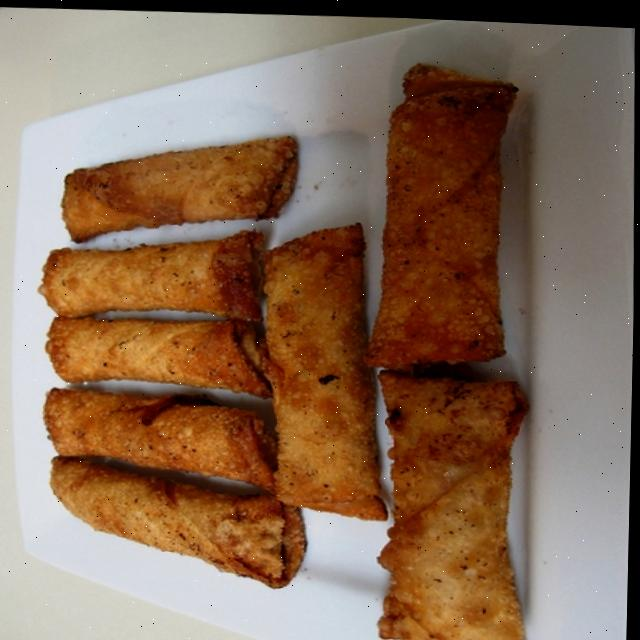炸货点心: (28, 25, 584, 637)
